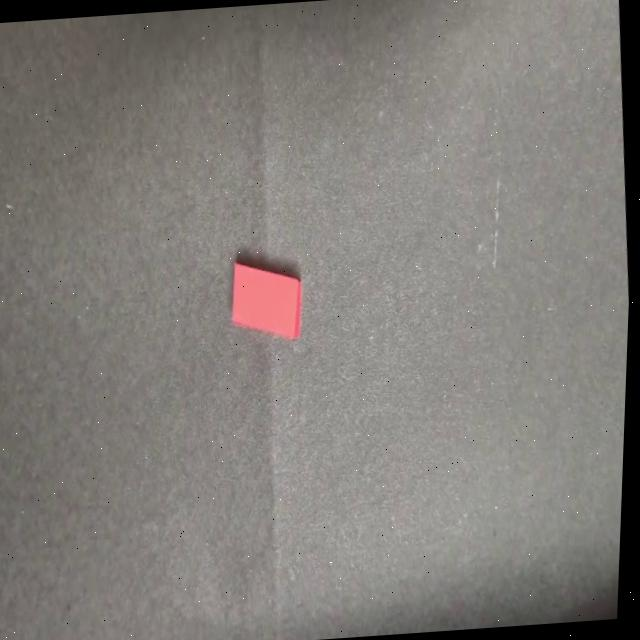red block: (225, 255, 306, 342)
